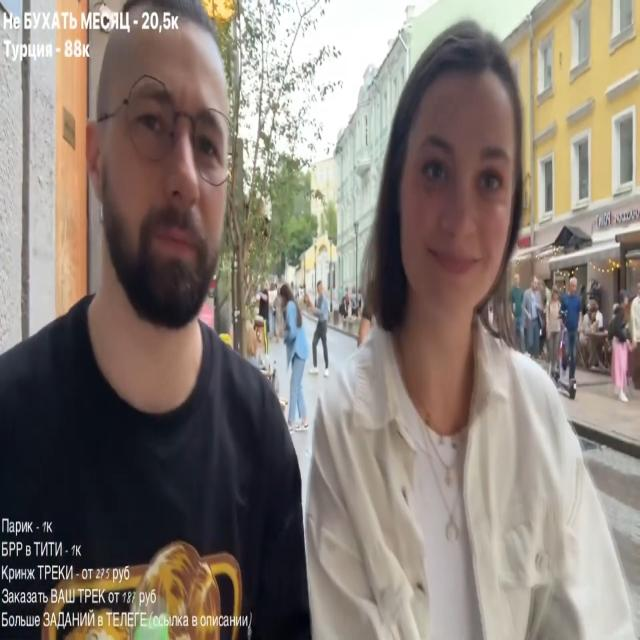Person: (252, 27, 616, 627), (0, 29, 323, 614), (274, 278, 313, 430), (607, 294, 635, 404), (558, 278, 584, 389), (524, 276, 549, 361), (581, 300, 607, 371)
